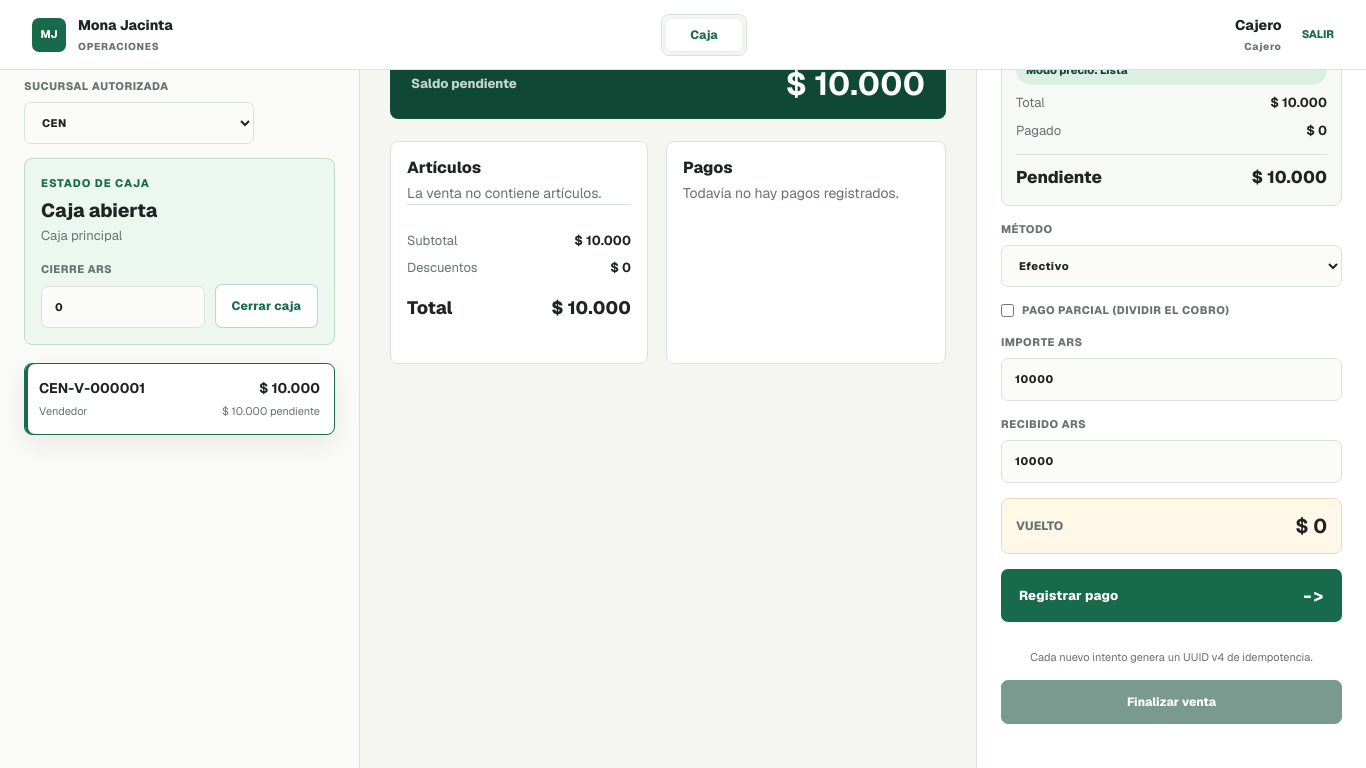
it: cashier queue hold states (Pilot P0.1-C) › keeps the sale selected and completable after the final payment makes it PAID
(page scrolled)
Click the button "Registrar pago ->": (1069, 595) [1001,569,1342,622]
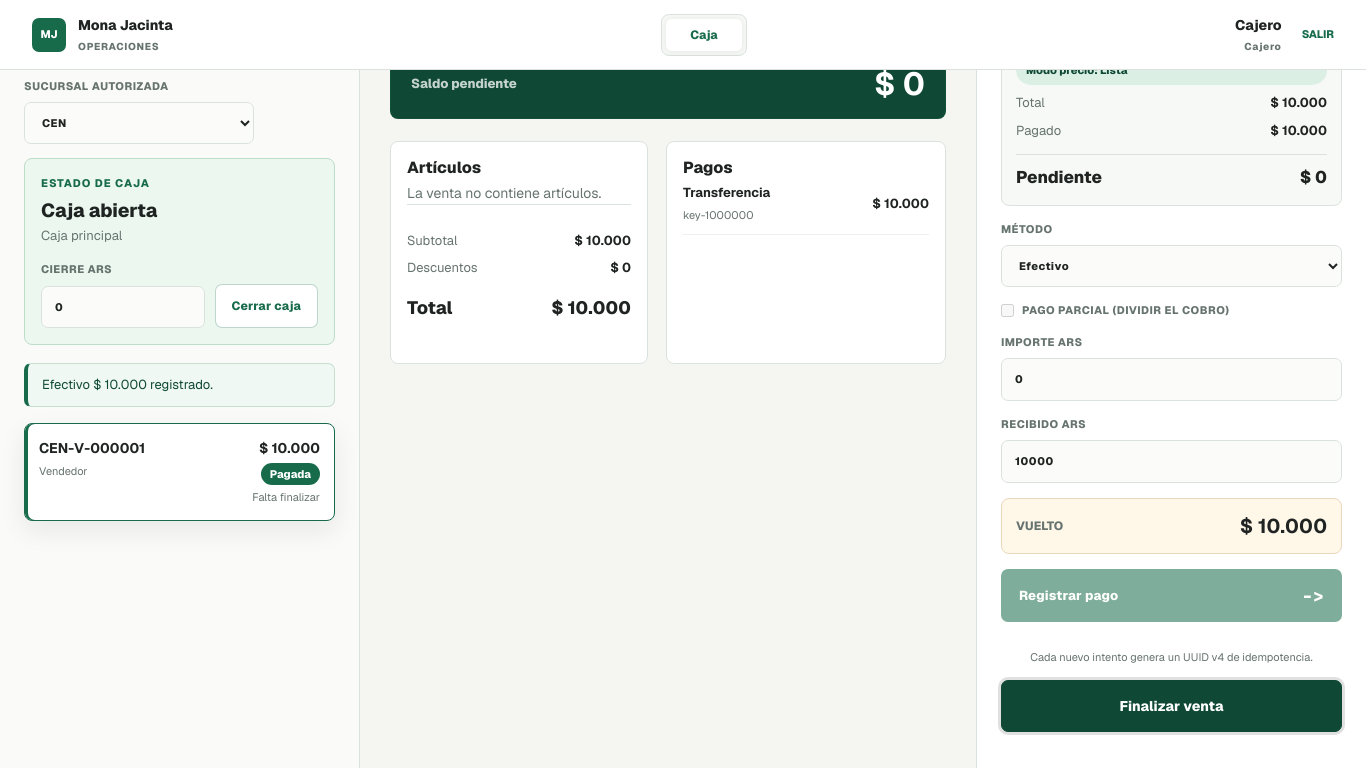
Check: the button "Finalizar venta" is enabled, box [1001,680,1342,732]
Check: the button "Registrar pago ->" is disabled, box [1001,569,1342,622]
